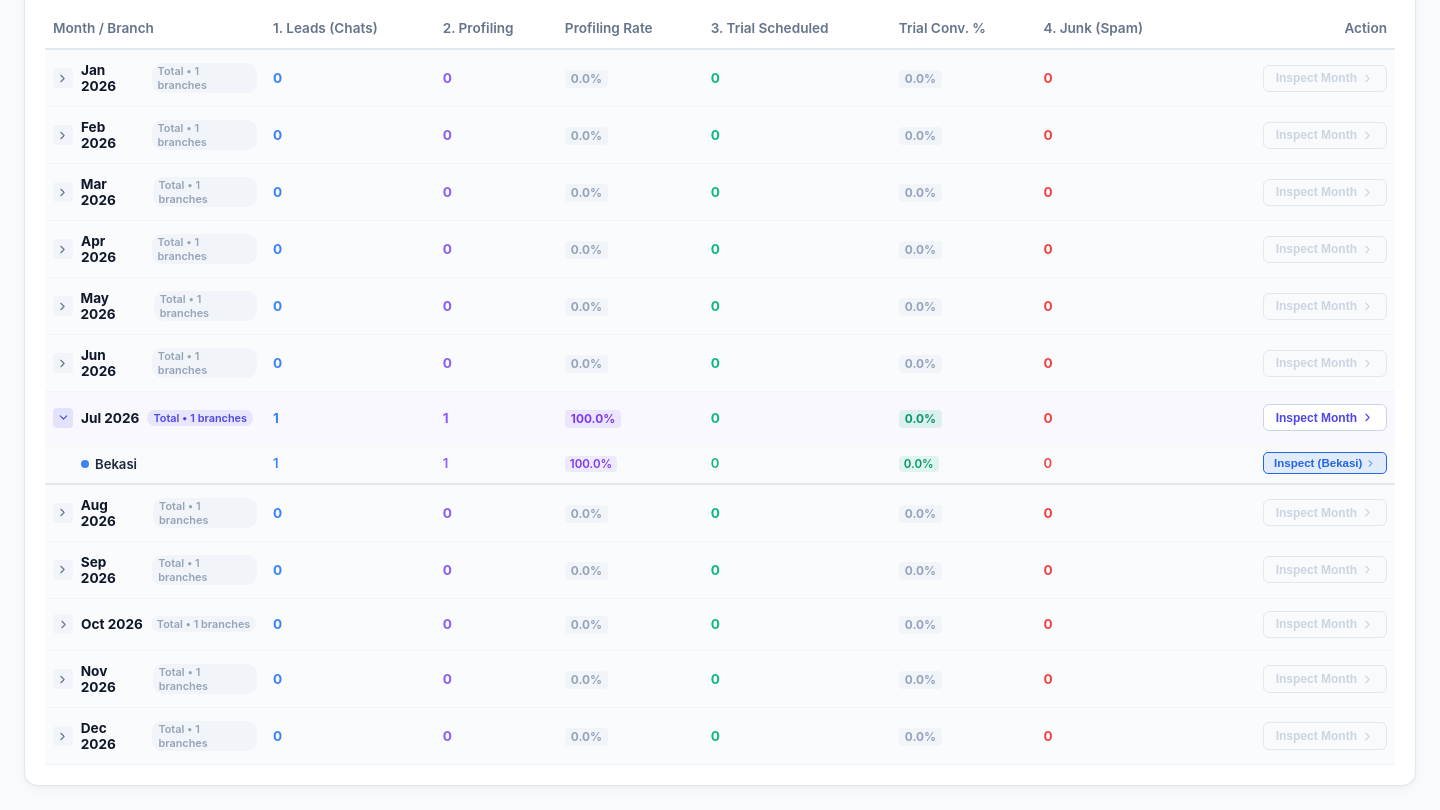
Scenario: NewCrmWeeklyPerformancePage - Profiling Tag and Follow-Up Journey › opens Journey modal, displays empty state, and records follow-up attempt
(page scrolled)
# Open drilldown modal
Click the button "Inspect Month" in the row of "Jul 2026" at [1325, 418], box [1263,404,1387,431]
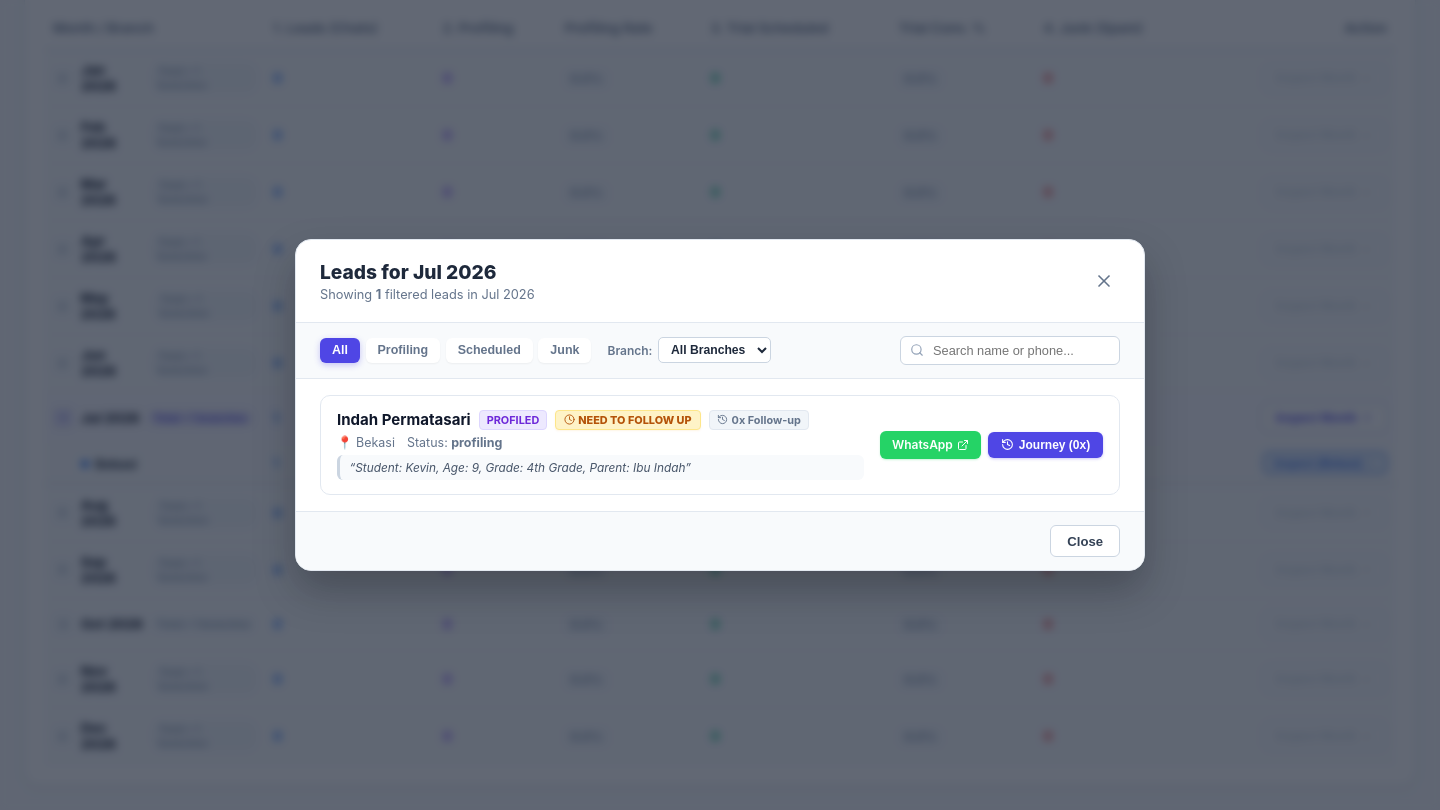
# Click Journey (0x)
Click the button "Journey (0x)" at [1046, 445], box [988,432,1103,458]
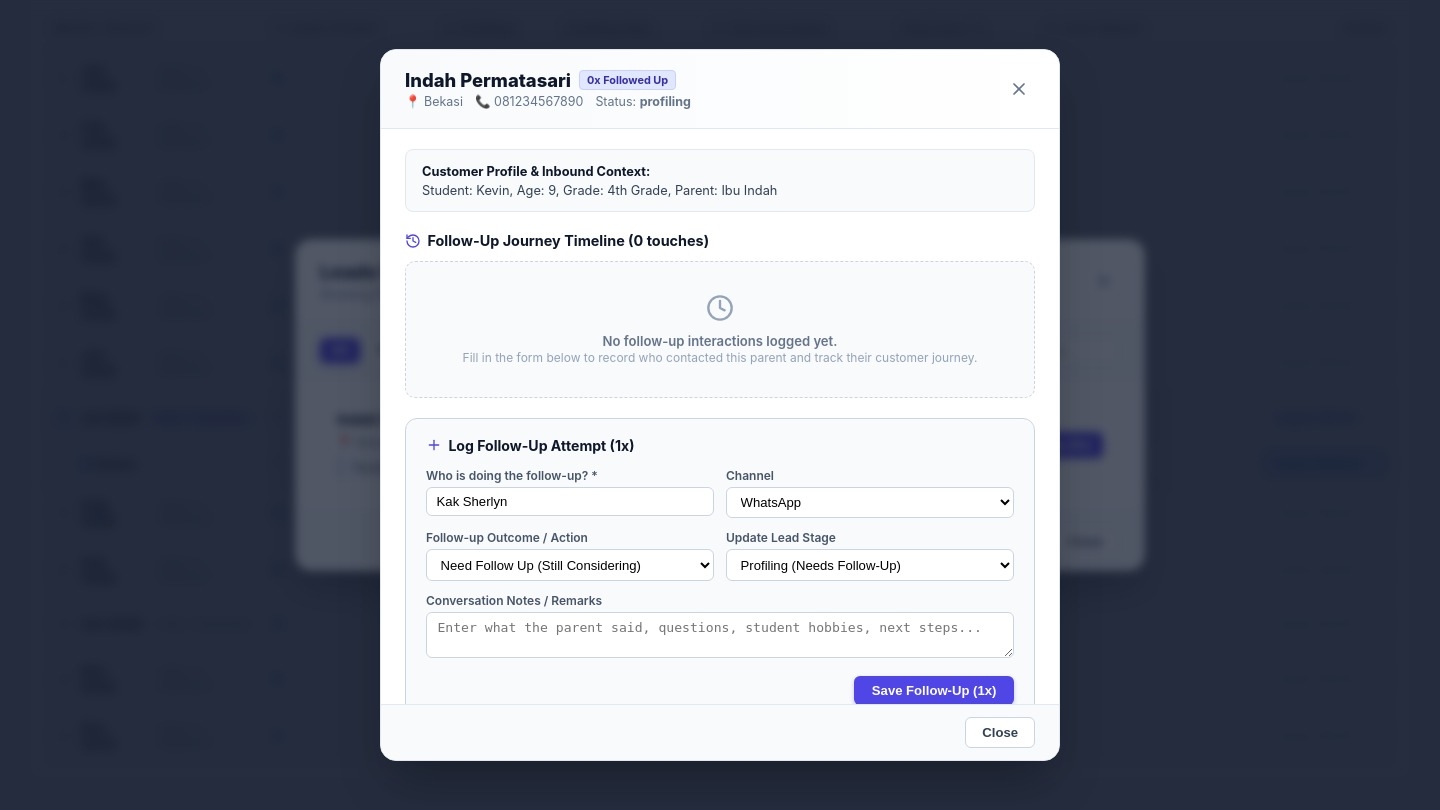
Check: the text "Customer Profile & Inbound Context:" is shown, box [422,164,650,179]
Check: the text "No follow-up interactions logged yet." is shown, box [603,333,838,349]
Check: the field with placeholder "e.g. Kak Muhajir, Admin" holds "Kak Sherlyn", box [426,486,714,516]
# Enter notes
Replace the text in the text box with placeholder "Enter what the parent said" with "Chatted with Ibu Indah about Kevin (Age 9)" at [720, 635], box [426,612,1014,658]
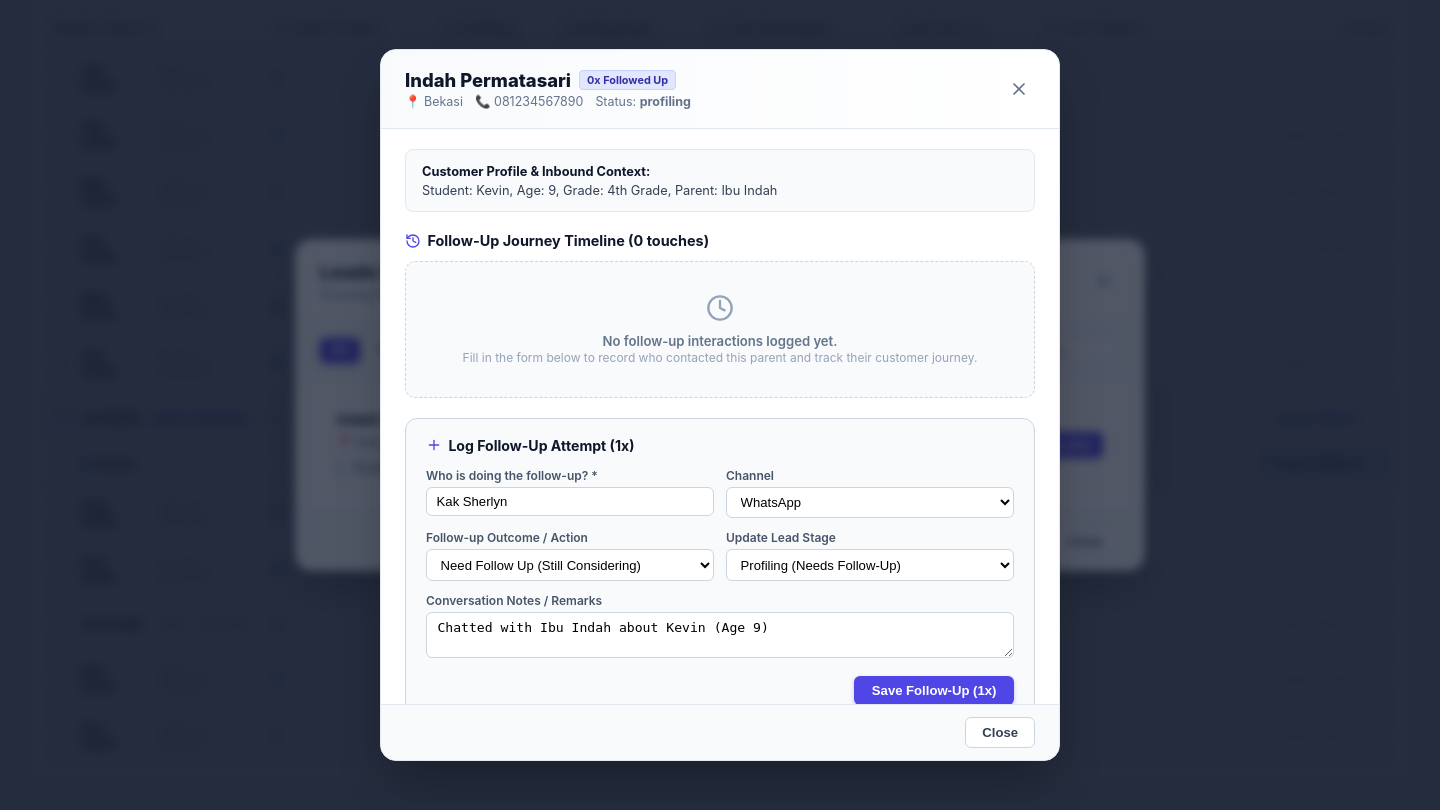
# Submit follow-up form
Click the button "Save Follow-Up (1x)" at [934, 691], box [854,676,1014,706]
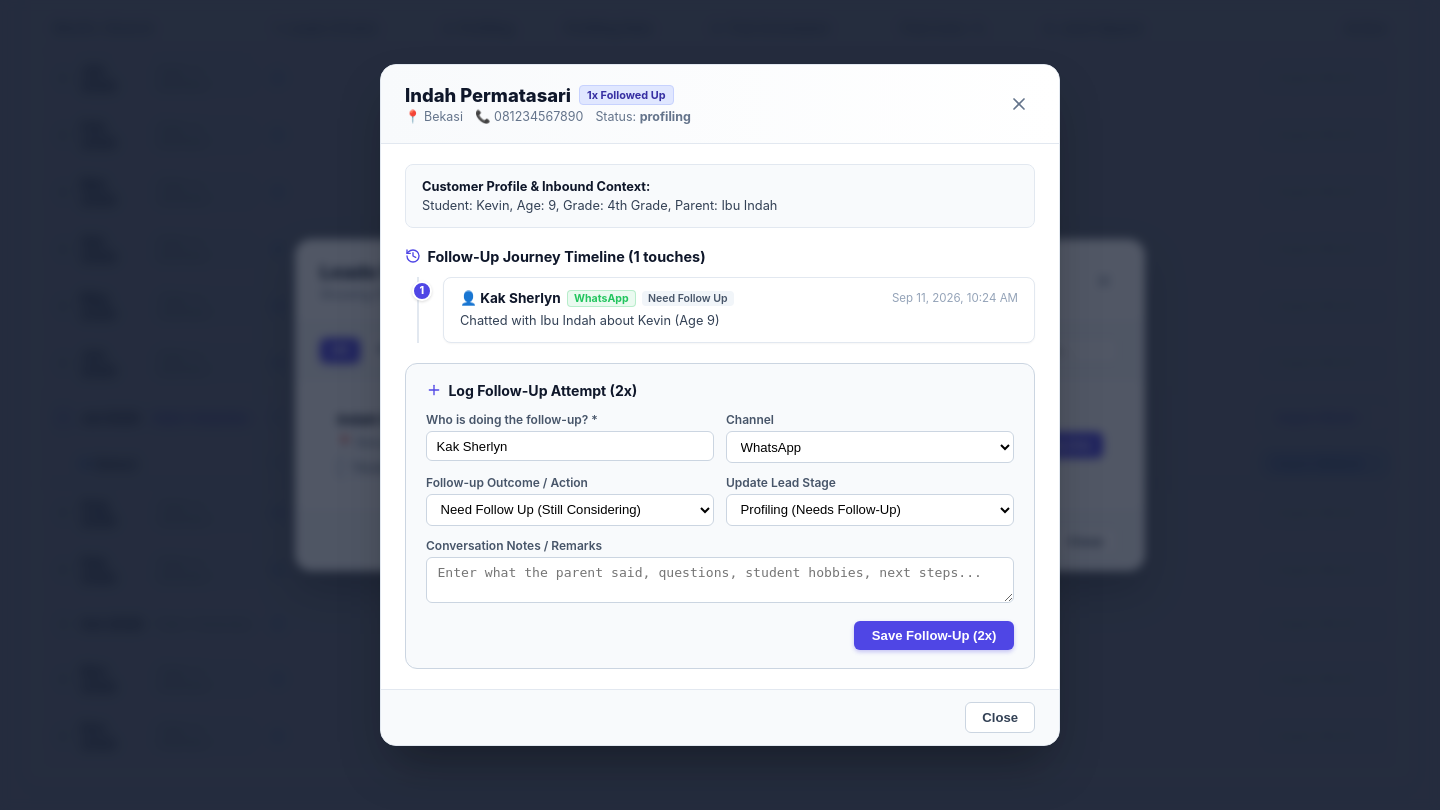
Check: the text "Chatted with Ibu Indah about Kevin (Age 9)" is shown, box [460,313,720,328]
Check: the text "1x Followed Up" is shown, box [579,85,674,105]
